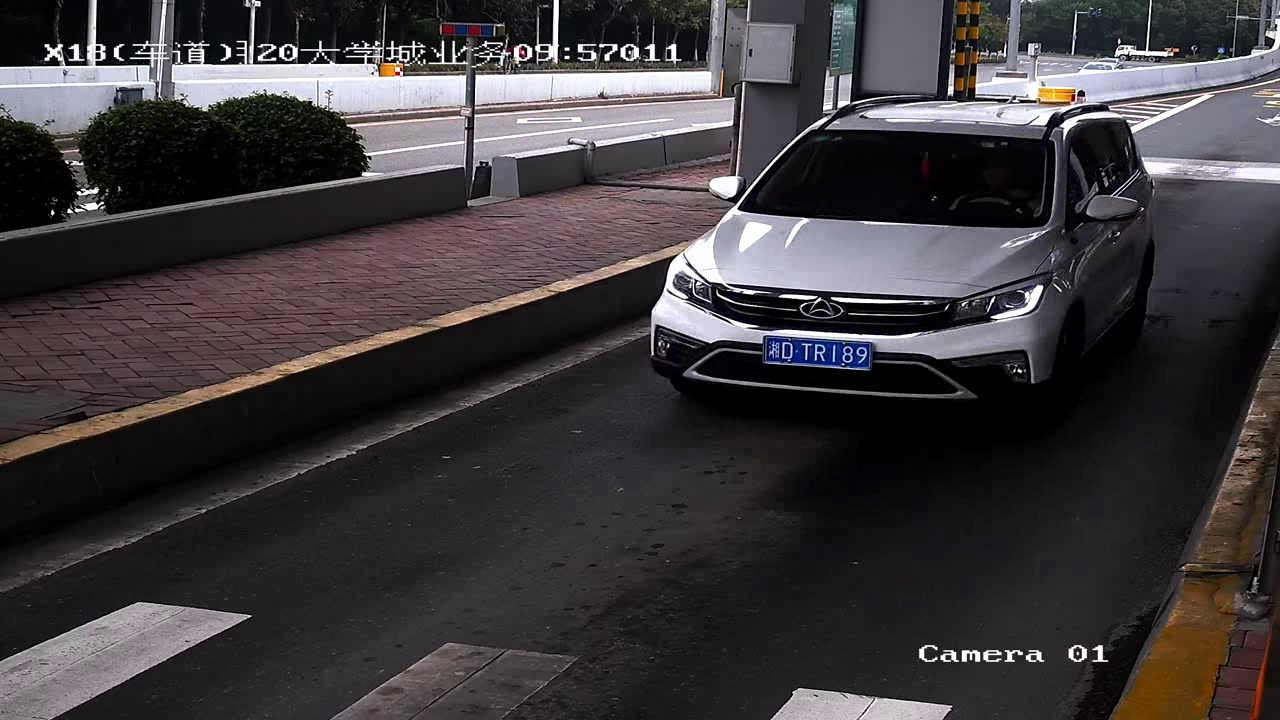bluePlate: (760, 332, 876, 372)
car: (631, 68, 1176, 445)
